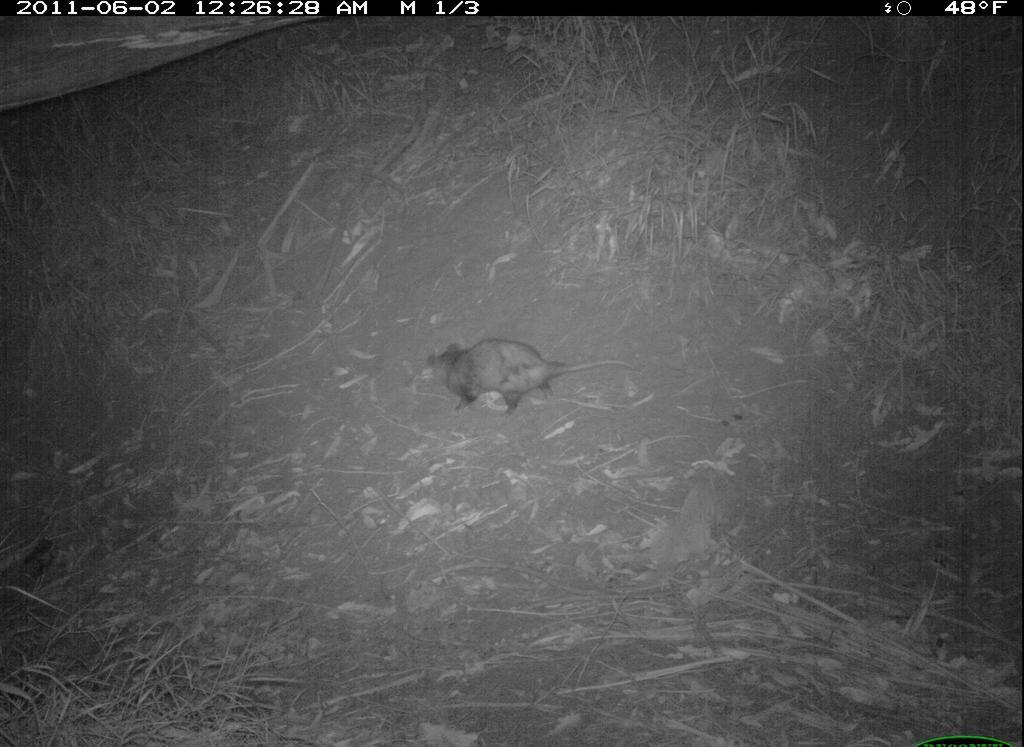opossum: (396, 329, 652, 428)
